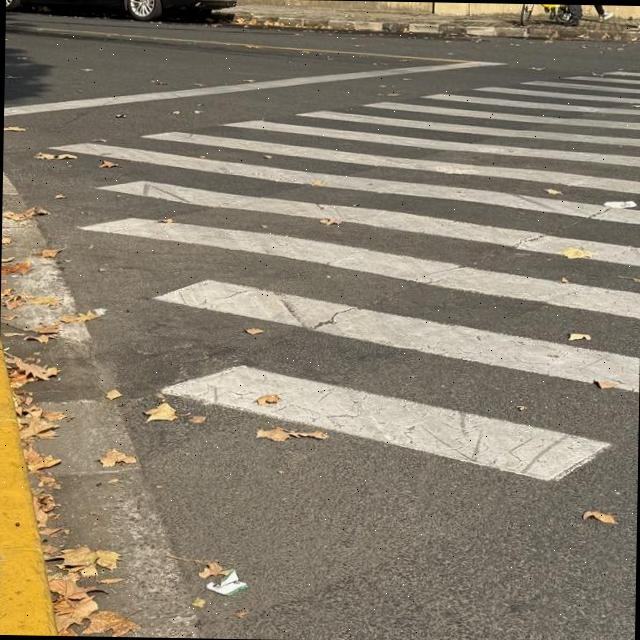curb: (0, 341, 56, 634), (228, 11, 640, 40)
